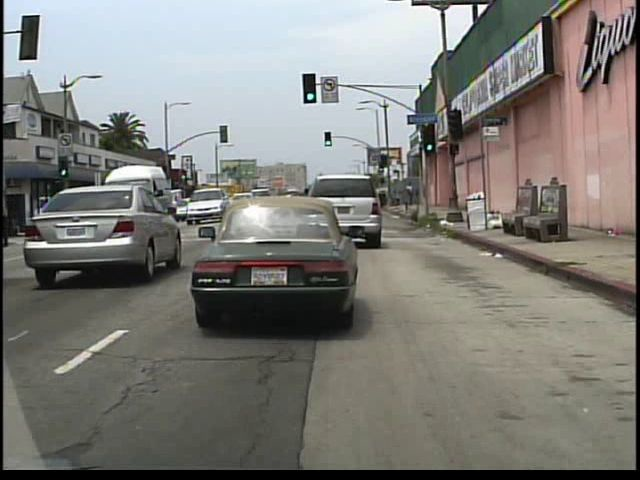person: (407, 179, 416, 205)
